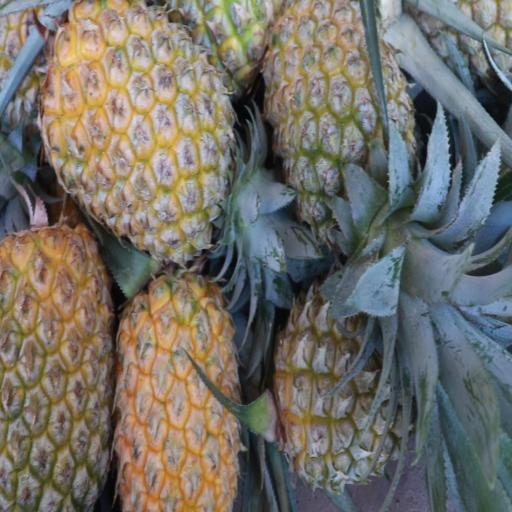------------------------------: (269, 0, 411, 238), (274, 274, 409, 484)
Pineapple - v8 v1: (42, 0, 225, 247), (0, 232, 115, 508), (114, 276, 238, 510)
